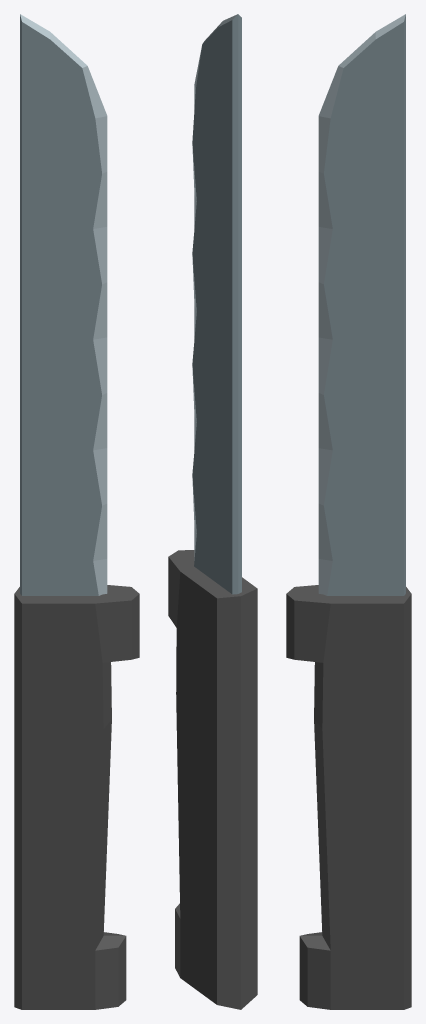
Rendered from steak-knife-by-jeremy-6SX4urd8AZY.glb.
3 views of the same model, side by side, from view 1: azimuth 90°, elevation 25°; view 2: azimuth 210°, elevation 25°; view 3: azimuth 270°, elevation 25° (orthographic).
Visible parts, largest first — view 1: Cube.024_Cube; view 2: Cube.024_Cube; view 3: Cube.024_Cube.
Part boxes in pixels (x1,y1,x2,y2): Cube.024_Cube: (14,14,139,1009); Cube.024_Cube: (168,14,257,1009); Cube.024_Cube: (286,14,411,1009).
Bounding box in the file's own units: 0.6003 × 14.07 × 1.61.
